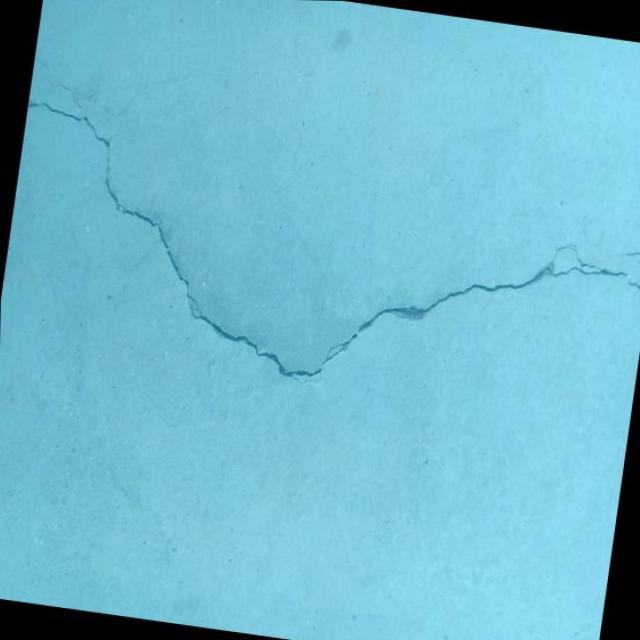crack: (0, 97, 639, 425), (28, 55, 86, 108), (613, 246, 640, 261), (625, 280, 640, 293)
